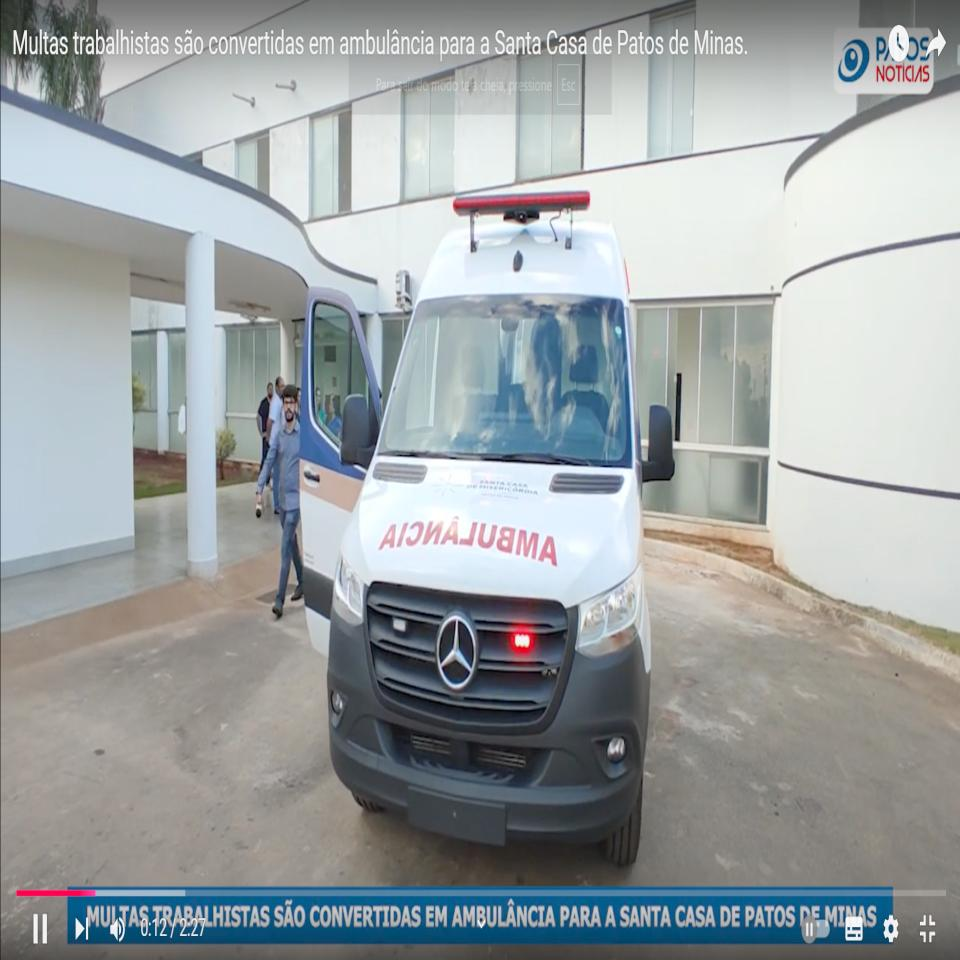bombeiro: (299, 190, 677, 870)
